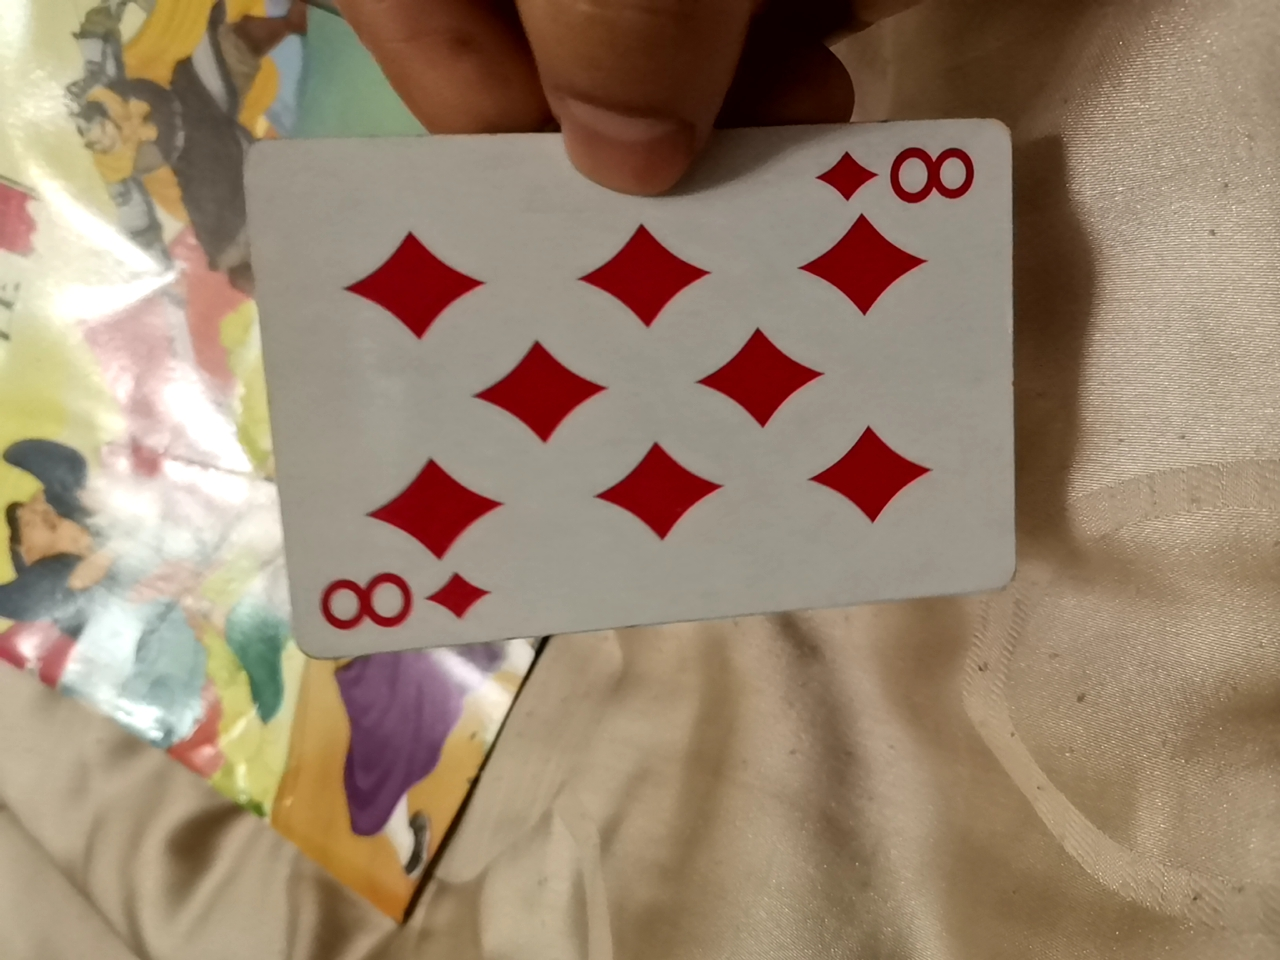fk 8: (221, 115, 1060, 661)
